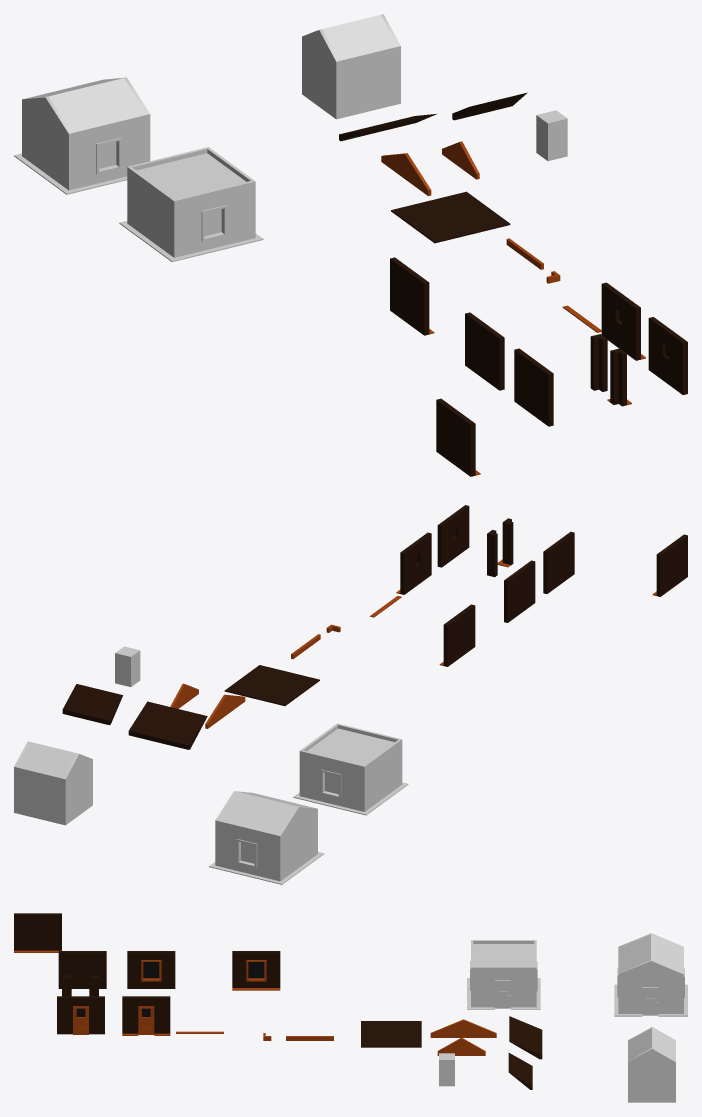
File: WallDetail.FBX
The picture shows the model from 3 angles, top to bottom: view 1: azimuth 30°, elevation 25°; view 2: azimuth 150°, elevation 25°; view 3: azimuth 270°, elevation 25°; orthographic projection. The views are drawn at different scales.
Visible parts, largest first — view 1: Roof2PerfectFit002, Roof, WallWindowDetail001, WallWindowDetail003, Wall003, Roof001, RoofSmallPerfectFit002, WallDetail, WallWindowDetail, WallDoorDetail, WallWindow, Wall (+14 smaller); view 2: Roof2PerfectFit, Roof2PerfectFit001, Roof, WallWindowDetail002, WallWindowDetail004, Wall002, Roof001, RoofSmallPerfectFit, RoofSmallPerfectFit001, WallWindowDetail, WallDoor, WallDoorDetail (+12 smaller); view 3: WallWindowDetail, WallDoorDetail, WallDetail, WallDoorDetail002, WallDoor, WallWindow, WallDoorDetail001, Wall001, Roof, Wall, Roof001, Roof2PerfectFit (+14 smaller).
Boxes of the visible parts, box(x1,y1,x2,y2) form: Roof2PerfectFit002: box(48, 78, 147, 138); Roof: box(391, 191, 510, 243); WallWindowDetail001: box(184, 190, 246, 258); WallWindowDetail003: box(78, 123, 138, 190); Wall003: box(336, 53, 395, 119); Roof001: box(136, 153, 245, 199); RoofSmallPerfectFit002: box(322, 15, 397, 66); WallDetail: box(436, 398, 480, 476); WallWindowDetail: box(390, 257, 434, 335); WallDoorDetail: box(601, 282, 645, 360); WallWindow: box(465, 312, 504, 390); Wall: box(514, 348, 553, 426); Roof2PerfectFit: box(128, 701, 207, 749); Roof2PerfectFit001: box(217, 791, 296, 839); Roof: box(224, 665, 319, 705); WallWindowDetail002: box(305, 757, 354, 811); WallWindowDetail004: box(221, 827, 270, 881); Wall002: box(18, 772, 67, 824); Roof001: box(307, 728, 394, 764); RoofSmallPerfectFit: box(62, 684, 122, 725); RoofSmallPerfectFit001: box(16, 742, 76, 783); WallWindowDetail: box(439, 604, 475, 666); WallDoor: box(437, 505, 469, 567); WallDoorDetail: box(396, 532, 431, 594); WallWindowDetail: box(232, 951, 280, 990); WallDoorDetail: box(122, 996, 170, 1035); WallDetail: box(14, 913, 61, 952); WallDoorDetail002: box(626, 978, 674, 1016); WallDoor: box(57, 996, 104, 1034); WallWindow: box(127, 951, 175, 988); WallDoorDetail001: box(479, 971, 526, 1009); Wall001: box(628, 1066, 675, 1102); Roof: box(361, 1021, 421, 1047); Wall: box(58, 951, 106, 988); Roof001: box(473, 944, 534, 966); Roof2PerfectFit: box(509, 1016, 542, 1059).
Size of the model in its own units: 20.69 by 4.36 by 42.03.
